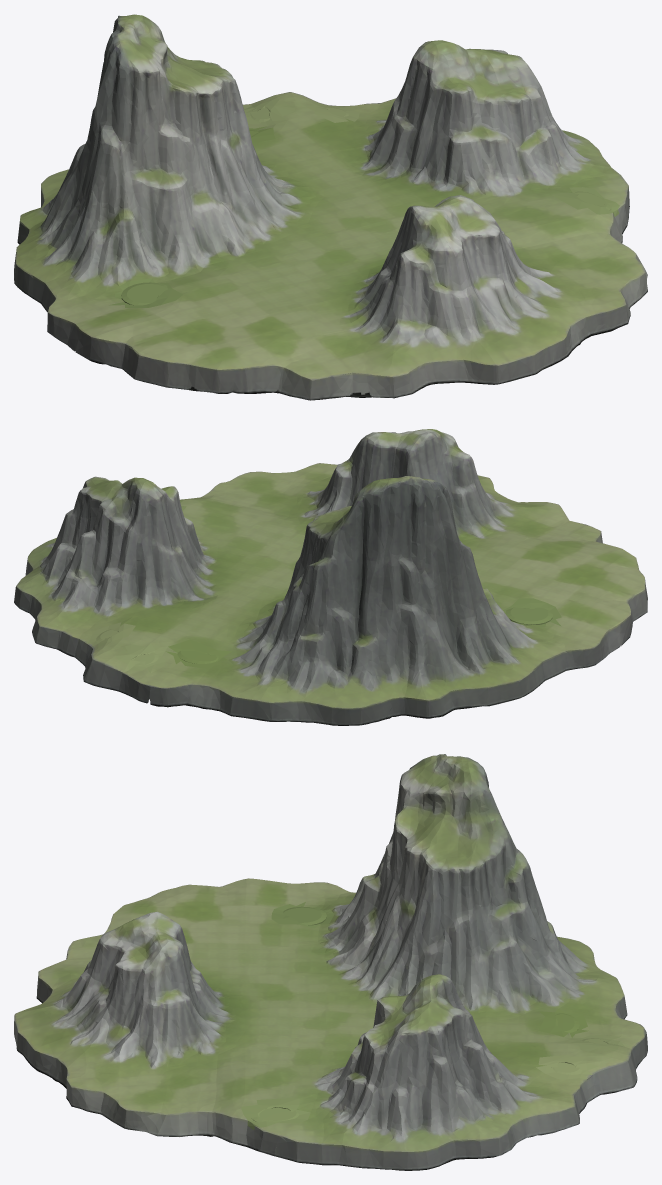
3 views of the same model, one above another, from view 1: azimuth 30°, elevation 25°; view 2: azimuth 150°, elevation 25°; view 3: azimuth 270°, elevation 25° (orthographic). The views are drawn at different scales.
Parts seen in each view (by area): view 1: world; view 2: world; view 3: world.
Part boxes in pixels (x1,y1,x2,y2): world: (14, 14, 647, 400); world: (14, 429, 647, 725); world: (14, 754, 647, 1170).
Bounding box in the file's own units: 30 × 11.06 × 29.86.
1 material, 1 textured.
